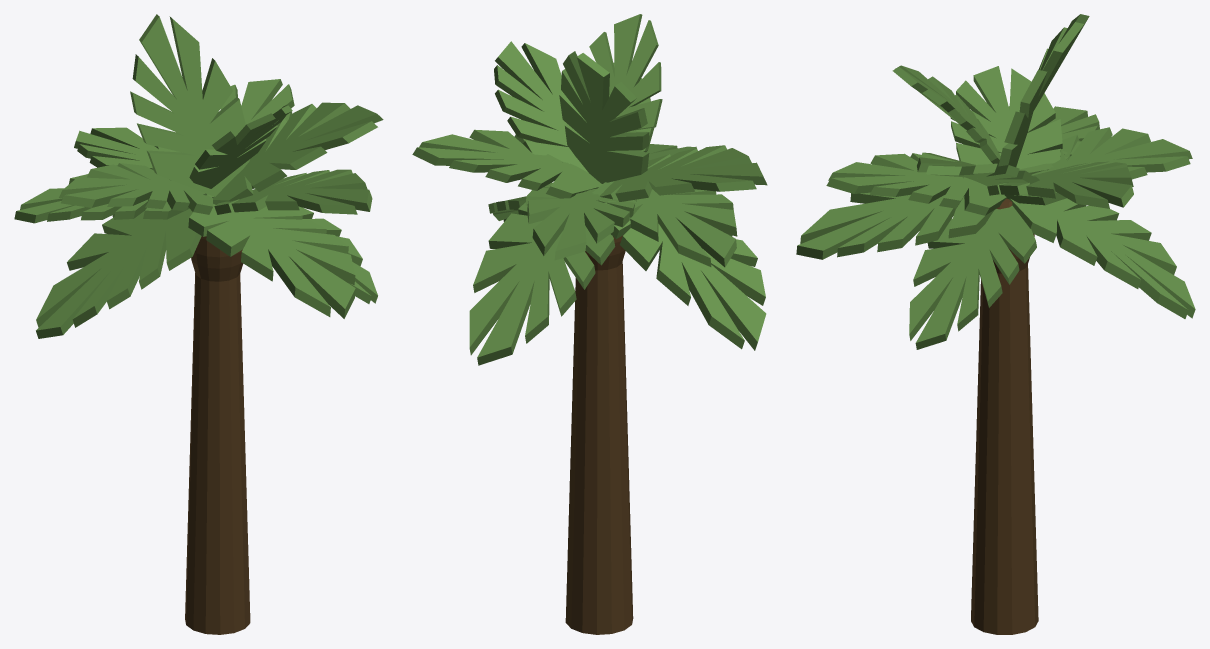
The model's file is tree.fbx.
3 views of the same model, side by side, from view 1: azimuth 30°, elevation 25°; view 2: azimuth 150°, elevation 25°; view 3: azimuth 270°, elevation 25° (orthographic). The views are drawn at different scales.
Parts seen in each view (by area): view 1: Cylinder, Plane.005, Plane, Plane.002, Plane.007, Plane.003, Plane.011, Plane.010, Plane.009, Plane.001, Plane.004, Plane.008; view 2: Cylinder, Plane.006, Plane, Plane.005, Plane.004, Plane.007, Plane.009, Plane.003, Plane.001, Plane.010, Plane.008; view 3: Cylinder, Plane.008, Plane.006, Plane.002, Plane.003, Plane.011, Plane.001, Plane.004, Plane.005, Plane.010, Plane.007, Plane.009.
Part boxes in pixels (left/top/right/bottom): Cylinder: left=185, top=236, right=250, bottom=634; Plane.005: left=130, top=14, right=249, bottom=196; Plane: left=36, top=203, right=213, bottom=338; Plane.002: left=188, top=204, right=355, bottom=318; Plane.007: left=213, top=102, right=383, bottom=204; Plane.003: left=59, top=163, right=213, bottom=214; Plane.011: left=214, top=169, right=372, bottom=214; Plane.010: left=189, top=105, right=292, bottom=188; Plane.009: left=14, top=174, right=206, bottom=223; Plane.001: left=74, top=127, right=175, bottom=168; Plane.004: left=176, top=79, right=294, bottom=197; Plane.008: left=291, top=206, right=377, bottom=303; Cylinder: left=565, top=235, right=633, bottom=634; Plane.006: left=469, top=202, right=615, bottom=365; Plane: left=611, top=220, right=766, bottom=350; Plane.005: left=559, top=51, right=649, bottom=183; Plane.004: left=412, top=129, right=602, bottom=198; Plane.007: left=494, top=41, right=588, bottom=172; Plane.009: left=592, top=181, right=737, bottom=267; Plane.003: left=599, top=145, right=767, bottom=201; Plane.001: left=525, top=182, right=636, bottom=260; Plane.010: left=589, top=14, right=662, bottom=152; Plane.008: left=488, top=196, right=526, bottom=221; Cylinder: left=971, top=198, right=1038, bottom=634; Plane.008: left=909, top=203, right=1036, bottom=349; Plane.006: left=1009, top=198, right=1195, bottom=318; Plane.002: left=796, top=192, right=994, bottom=259; Plane.003: left=950, top=66, right=1062, bottom=169; Plane.011: left=826, top=153, right=1006, bottom=215; Plane.001: left=1004, top=127, right=1192, bottom=205; Plane.004: left=987, top=161, right=1133, bottom=208; Plane.005: left=998, top=14, right=1089, bottom=167; Plane.010: left=892, top=65, right=1000, bottom=166; Plane.007: left=917, top=152, right=1039, bottom=186; Plane.009: left=1009, top=106, right=1099, bottom=174.
Bounding box in the file's own units: 1096 × 2067 × 1254.
